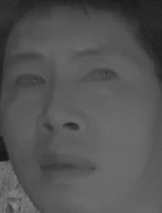eye: (78, 63, 119, 88), (13, 69, 47, 91)
mouth: (34, 148, 98, 184)
